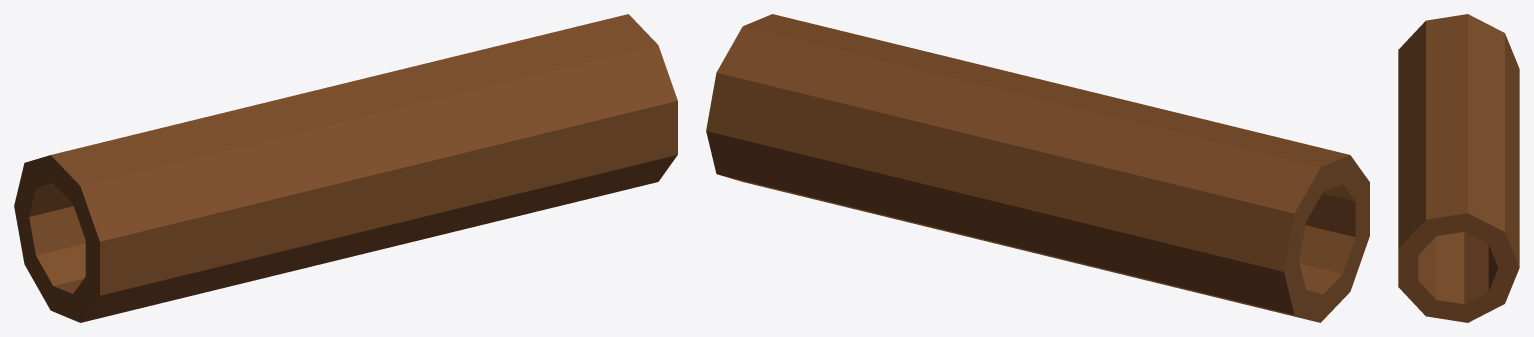
Rendered from fallen_log_hollow.fbx.
3 renders of one model, left to right at view 1: azimuth 30°, elevation 25°; view 2: azimuth 150°, elevation 25°; view 3: azimuth 270°, elevation 25°, orthographic. The views are drawn at different scales.
Visible parts, largest first — view 1: fallen_log_hollow; view 2: fallen_log_hollow; view 3: fallen_log_hollow.
Boxes of the visible parts, box(x1,y1,x2,y2) form: fallen_log_hollow: box(14, 14, 677, 322); fallen_log_hollow: box(706, 14, 1369, 322); fallen_log_hollow: box(1398, 14, 1519, 322).
Bounding box in the file's own units: 3.5 × 0.9 × 0.9.
